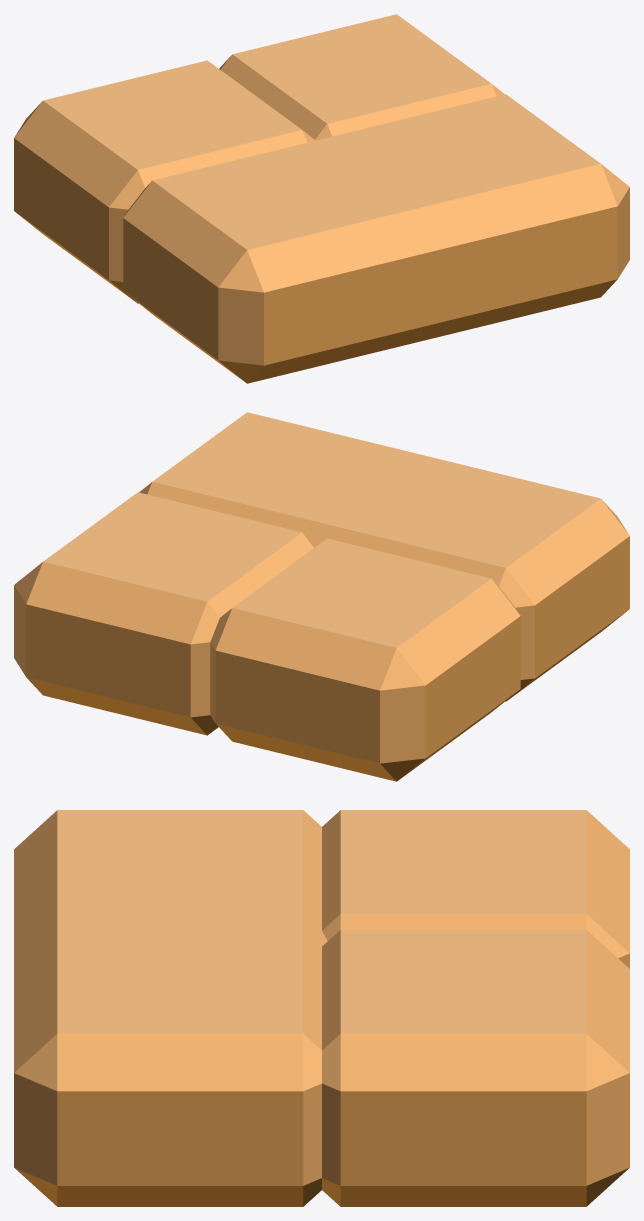
The model's file is m_kub_clay_floorMixed.FBX.
The picture shows the model from 3 angles, top to bottom: view 1: azimuth 30°, elevation 25°; view 2: azimuth 150°, elevation 25°; view 3: azimuth 270°, elevation 25°; orthographic projection. The views are drawn at different scales.
Parts seen in each view (by area): view 1: m_kub_clay_floorMixed; view 2: m_kub_clay_floorMixed; view 3: m_kub_clay_floorMixed.
Part boxes in pixels (<box>): m_kub_clay_floorMixed: <box>14,14,629,383</box>; m_kub_clay_floorMixed: <box>14,412,629,781</box>; m_kub_clay_floorMixed: <box>14,810,629,1206</box>.
Size of the model in its own units: 2.18 by 0.6751 by 2.18.
